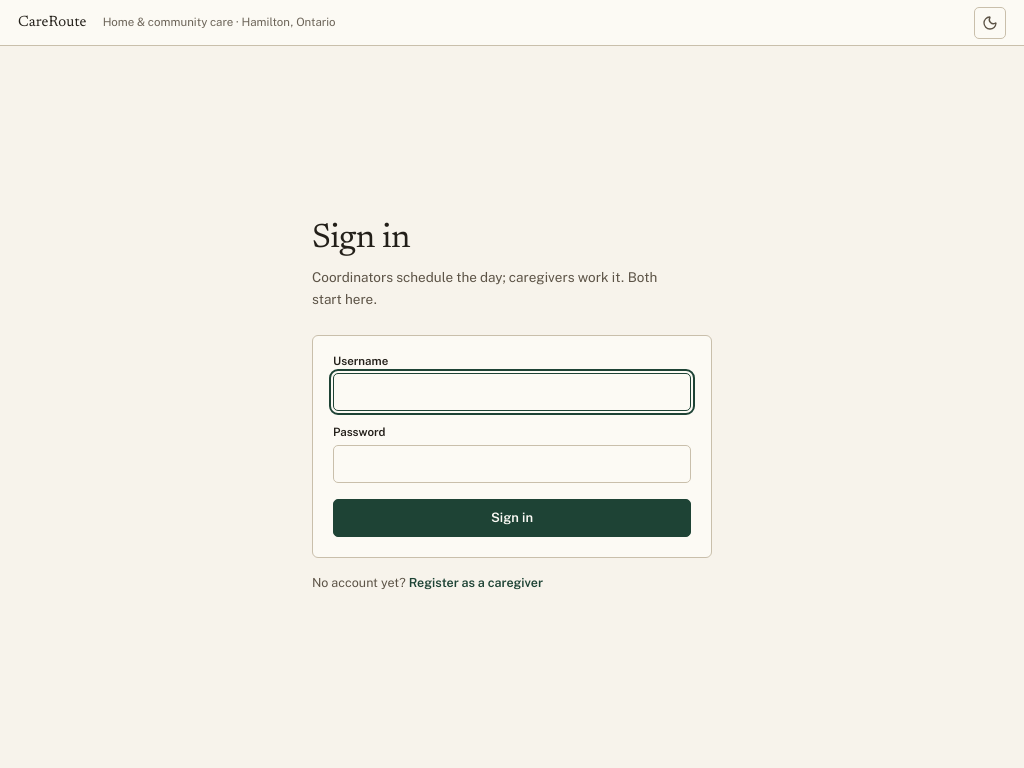
login form › shows the server's own sentence on a bad password rather than redirecting
Type "dana.coordinator" into the field labelled "Username" at (512, 392), box [333,373,691,411]
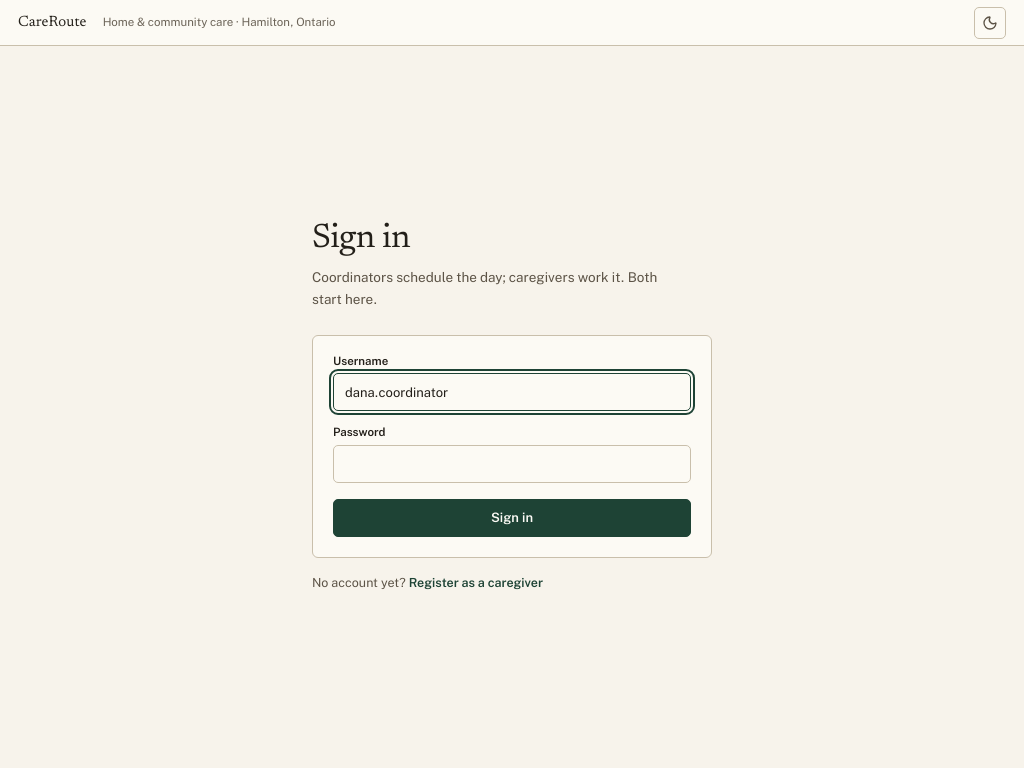
Type "wrong" into the password field labelled "Password" at (512, 464), box [333,445,691,483]
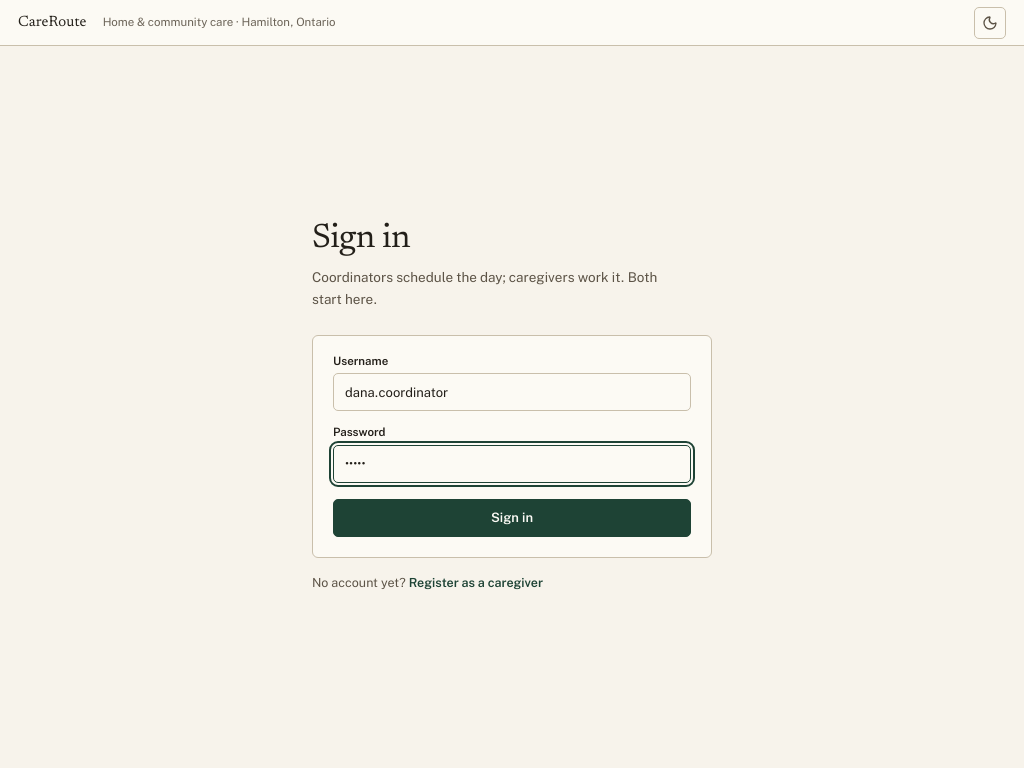
Click the button "Sign in" at (512, 518), box [333,499,691,537]
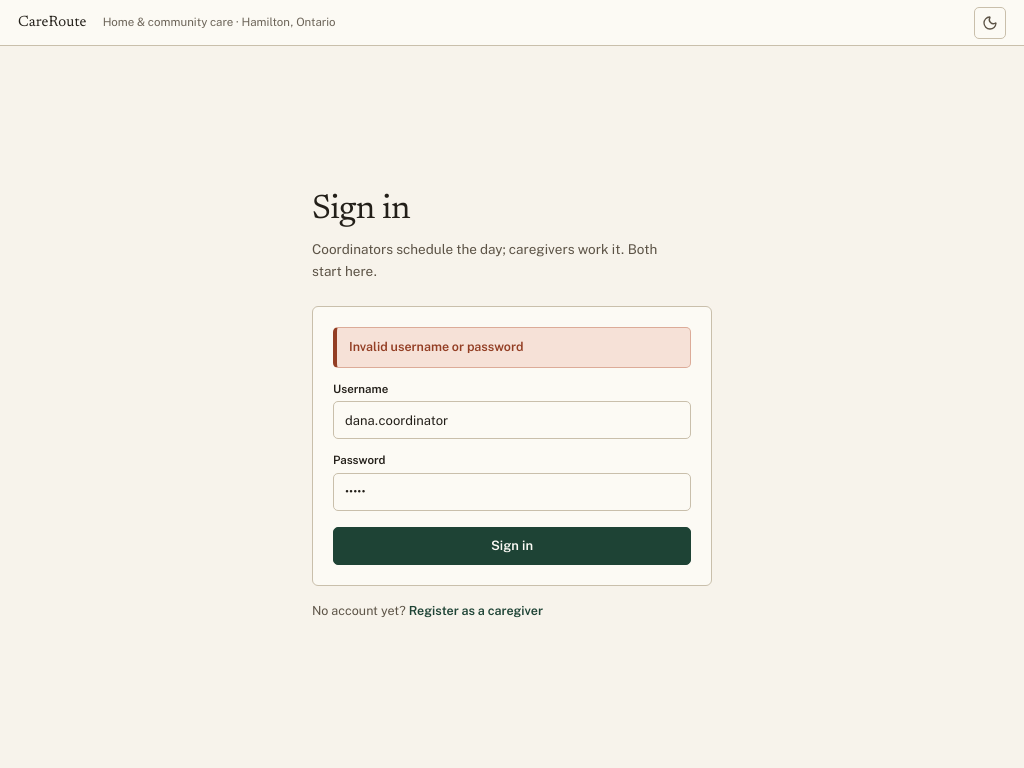
Check: the heading "Sign in" is shown, box [312,193,410,227]
Check: the message reads "Invalid username or password", box [349,339,524,354]
